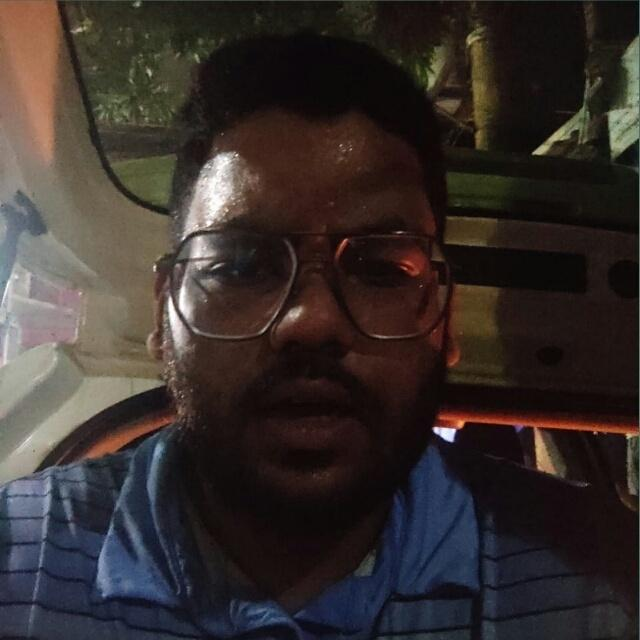Disgust: (135, 82, 484, 531)
